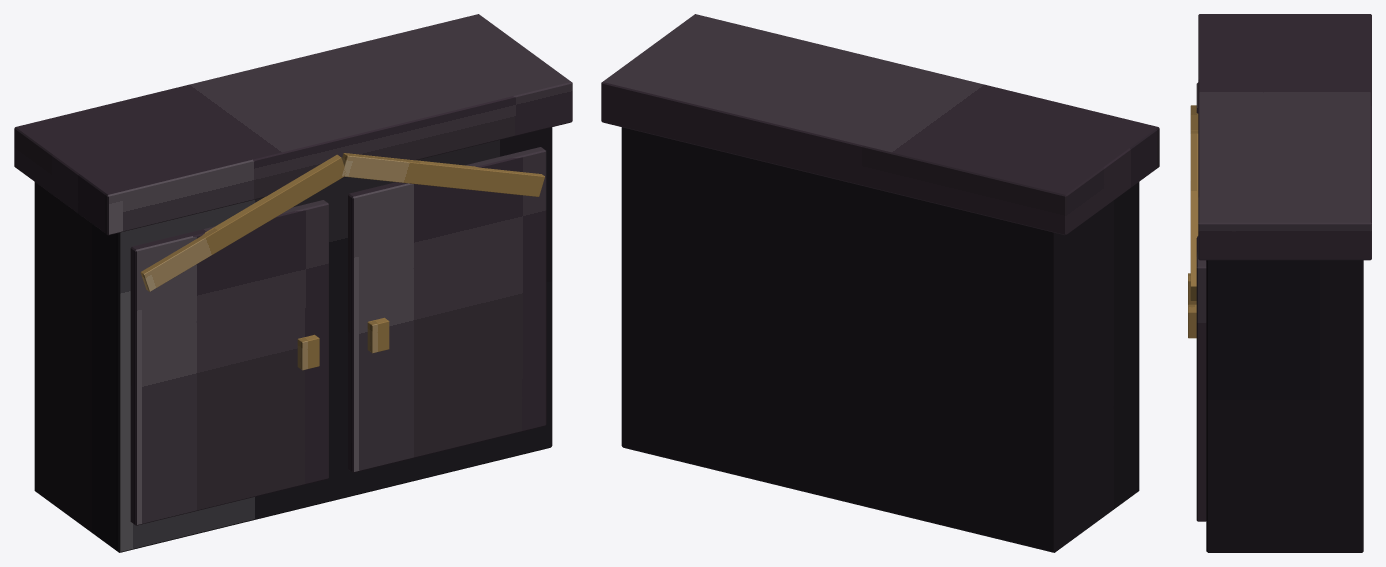
Rendered from gothic_kitchen_wall_cabinet.glb.
The picture shows the model from 3 angles, left to right: view 1: azimuth 30°, elevation 25°; view 2: azimuth 150°, elevation 25°; view 3: azimuth 270°, elevation 25°; orthographic projection. The views are drawn at different scales.
Parts seen in each view (by area): view 1: CabinetCrown, WallCabinetDoor_2, WallCabinetBody, WallCabinetDoor_1, WallCabinetArchLeft, WallCabinetArchRight, WallCabinetKnob_1, WallCabinetKnob_2; view 2: WallCabinetBody, CabinetCrown; view 3: WallCabinetBody, CabinetCrown, WallCabinetDoor_2, WallCabinetArchRight, WallCabinetKnob_2, WallCabinetArchLeft.
Part boxes in pixels (bbox=[...]): CabinetCrown: bbox=[14, 14, 572, 235]; WallCabinetDoor_2: bbox=[348, 147, 546, 472]; WallCabinetBody: bbox=[34, 127, 552, 552]; WallCabinetDoor_1: bbox=[130, 200, 328, 525]; WallCabinetArchLeft: bbox=[140, 154, 346, 291]; WallCabinetArchRight: bbox=[342, 153, 544, 196]; WallCabinetKnob_1: bbox=[297, 334, 319, 370]; WallCabinetKnob_2: bbox=[367, 317, 389, 353]; WallCabinetBody: bbox=[621, 127, 1139, 552]; CabinetCrown: bbox=[601, 14, 1159, 235]; WallCabinetBody: bbox=[1206, 260, 1363, 552]; CabinetCrown: bbox=[1198, 14, 1371, 260]; WallCabinetDoor_2: bbox=[1196, 236, 1206, 521]; WallCabinetArchRight: bbox=[1190, 133, 1198, 300]; WallCabinetKnob_2: bbox=[1188, 304, 1196, 338]; WallCabinetArchLeft: bbox=[1190, 105, 1198, 133].
Bounding box in the file's own units: 1.2 × 0.9 × 0.4445.
1 material, 1 textured.
